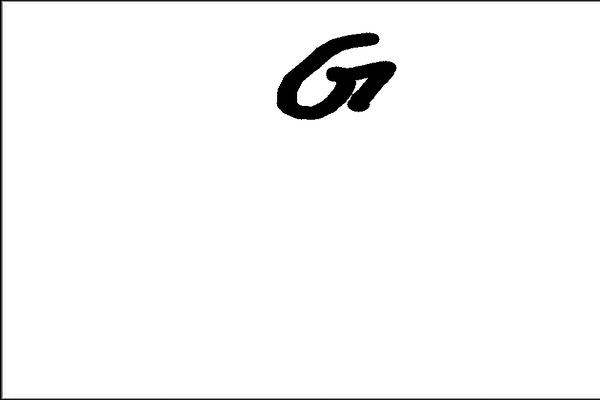G: (274, 27, 397, 119)
